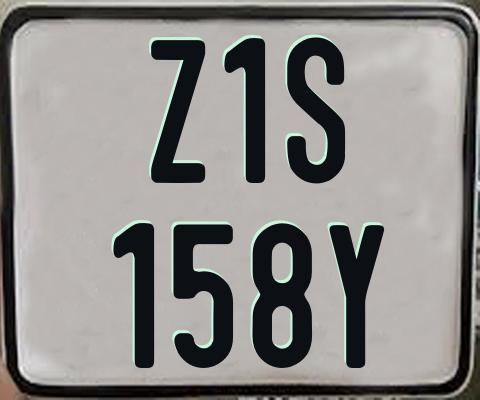1: (221, 36, 268, 186), (111, 221, 157, 367)
5: (170, 222, 232, 372)
8: (250, 221, 315, 371)
S: (287, 34, 351, 187)
Y: (328, 222, 387, 368)
Z: (151, 40, 211, 184)
